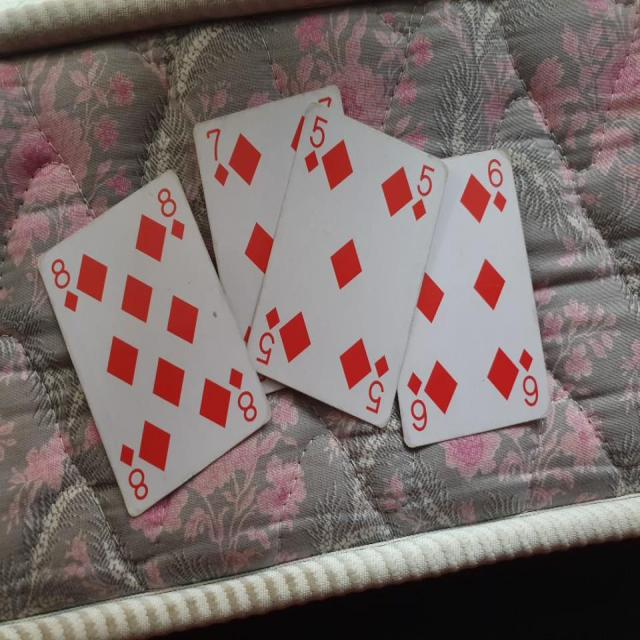5 Diamonds: (237, 101, 450, 426)
6 Diamonds: (395, 146, 550, 449)
7 Diamonds: (191, 84, 346, 340)
8 Diamonds: (37, 165, 272, 519)
